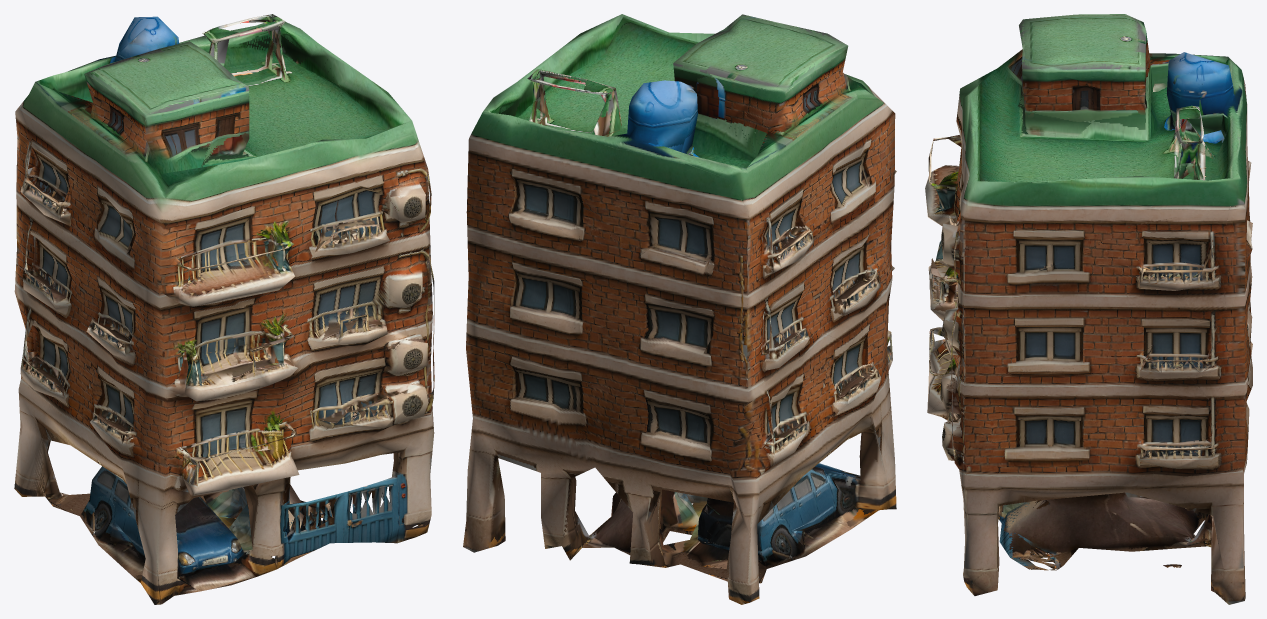
Rendered from KR_Villa_01.glb.
3 renders of one model, left to right at view 1: azimuth 30°, elevation 25°; view 2: azimuth 150°, elevation 25°; view 3: azimuth 270°, elevation 25°, orthographic. The views are drawn at different scales.
Parts seen in each view (by area): view 1: texture_mapping; view 2: texture_mapping; view 3: texture_mapping.
Boxes of the visible parts, x1=… form: texture_mapping: x1=14, y1=14, x2=434, y2=604; texture_mapping: x1=463, y1=14, x2=896, y2=604; texture_mapping: x1=925, y1=14, x2=1252, y2=604.
Size of the model in its own units: 0.6472 by 0.9919 by 0.6289.
1 material, 1 textured.
